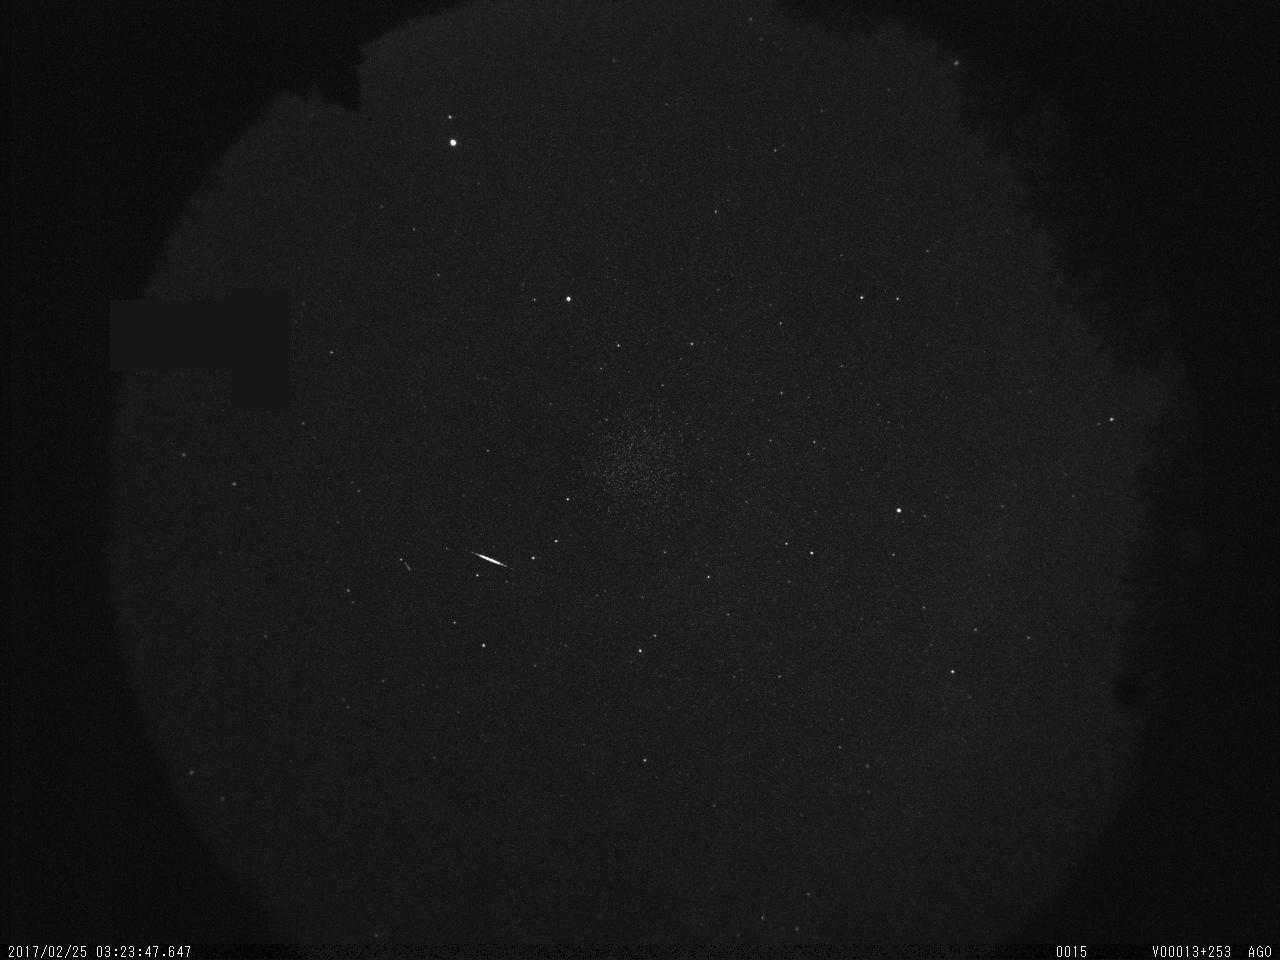meteor: (456, 537, 518, 580)
